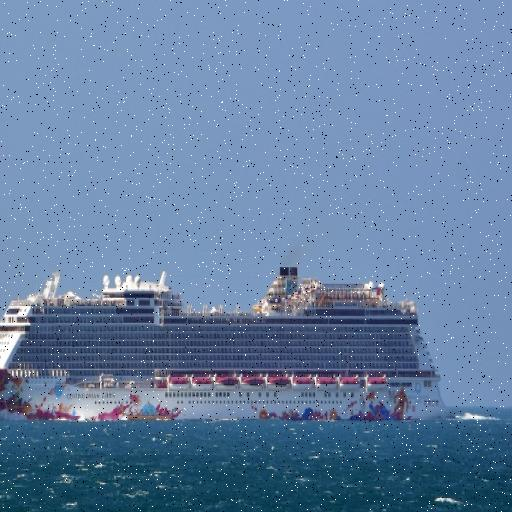cruises: (1, 266, 448, 433)
